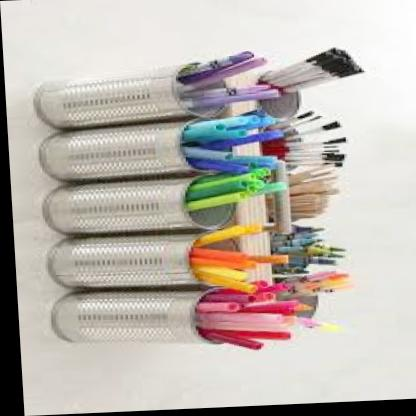Metal: (3, 57, 215, 366)
